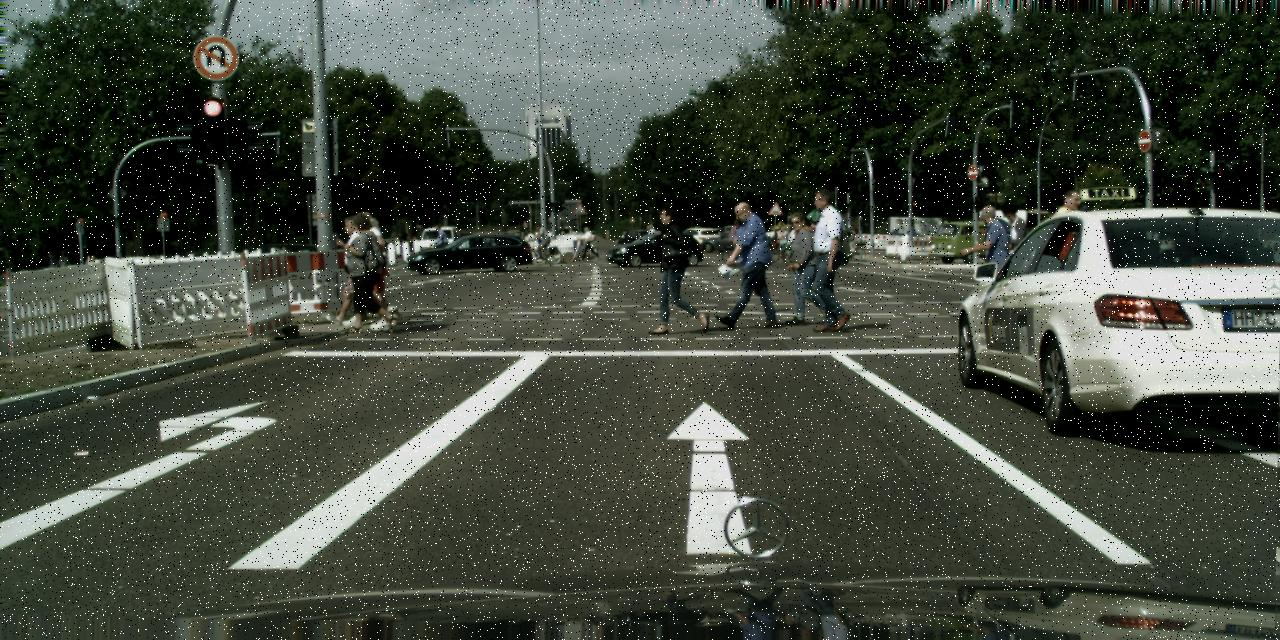ped: (799, 191, 856, 330), (720, 201, 770, 328), (651, 208, 702, 332), (1042, 190, 1091, 310), (343, 213, 392, 332), (342, 211, 389, 327), (782, 212, 828, 322), (992, 200, 1036, 310), (329, 214, 373, 324), (969, 205, 1012, 311), (730, 220, 744, 258), (534, 222, 547, 256), (644, 224, 657, 256), (432, 224, 445, 256), (582, 227, 594, 260), (776, 226, 788, 256), (844, 224, 856, 254), (787, 224, 799, 253)
